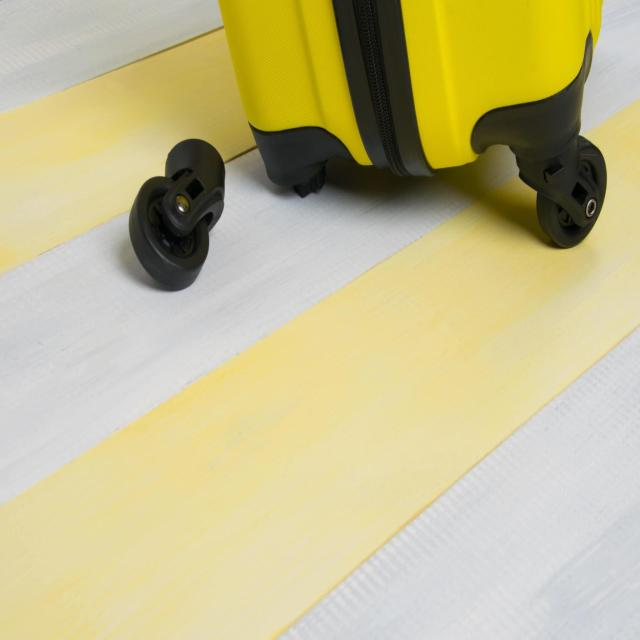Damage-bag: (130, 139, 225, 289), (252, 128, 352, 197)
